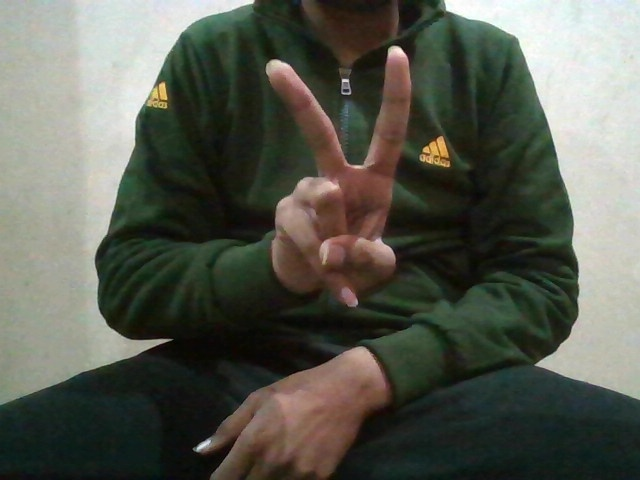V: (255, 47, 436, 311)
